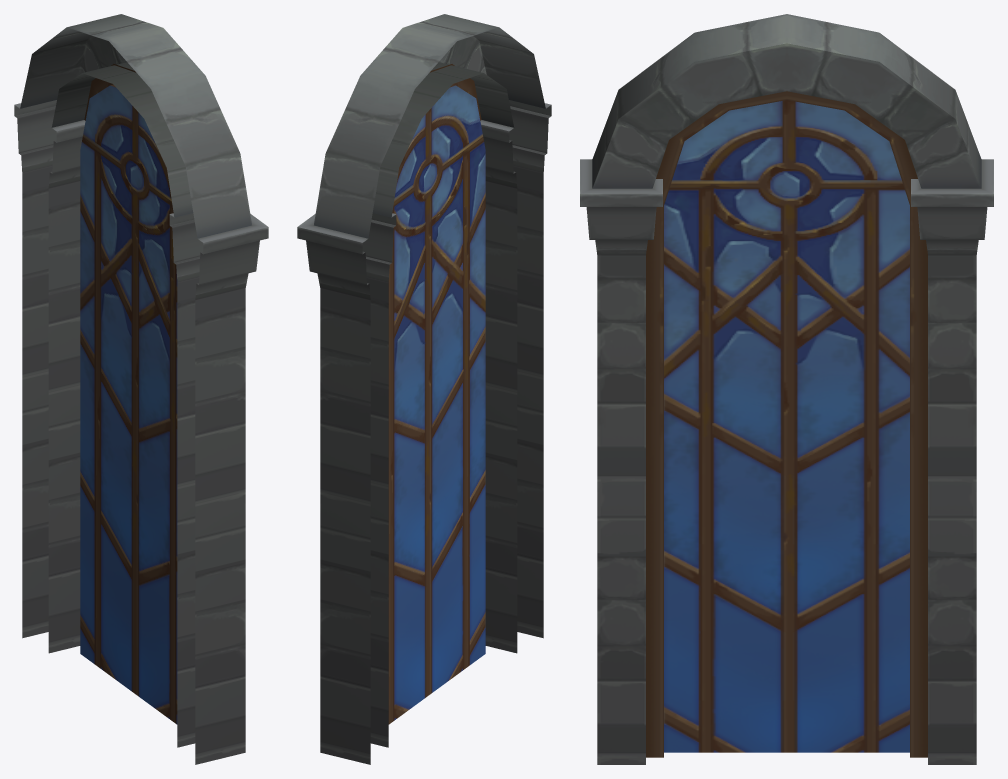
File: sc_dungeon_moshenta_chuanghu_001_a.FBX
The picture shows the model from 3 angles, left to right: view 1: azimuth 30°, elevation 25°; view 2: azimuth 150°, elevation 25°; view 3: azimuth 270°, elevation 25°; orthographic projection. The views are drawn at different scales.
Parts seen in each view (by area): view 1: sc_dungeon_moshenta_chuanghu_001_a; view 2: sc_dungeon_moshenta_chuanghu_001_a; view 3: sc_dungeon_moshenta_chuanghu_001_a.
Boxes of the visible parts, x1,y1,x2,y2 form: sc_dungeon_moshenta_chuanghu_001_a: (14, 14, 268, 764); sc_dungeon_moshenta_chuanghu_001_a: (297, 14, 551, 764); sc_dungeon_moshenta_chuanghu_001_a: (580, 14, 993, 764).
Bounding box in the file's own units: 1.3 × 6.5 × 12.55.
Materials: 1 (1 with a texture image).
